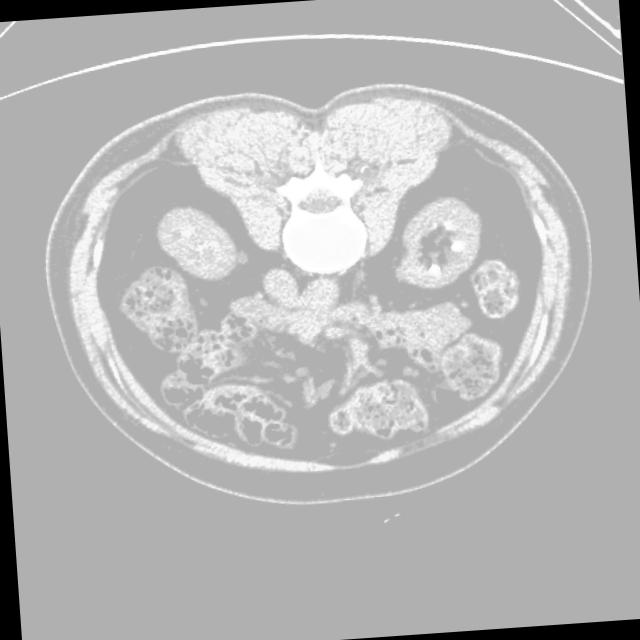STONE: (104, 181, 536, 371)
